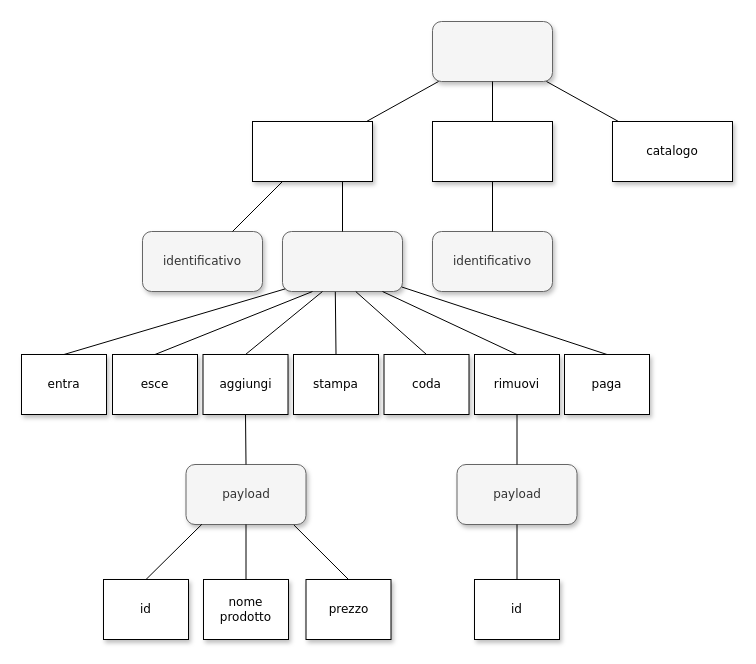
This 756x664 diagram has some shape labels left out. Here are the shapes that lost their labels. From the top down, the centre of each, then its label:
At point 493,52: "tipo".
At point 313,152: "cliente".
At point 493,152: "cassiere".
At point 343,262: "comando".
